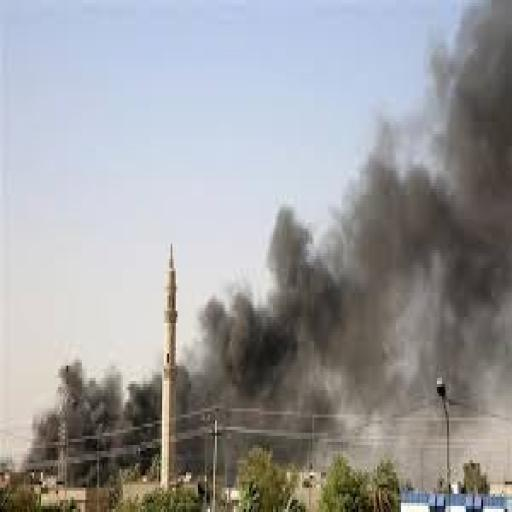smoke: (213, 49, 512, 393), (31, 356, 162, 476)
